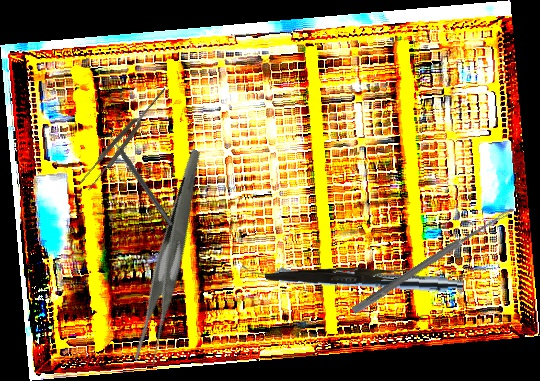Dressing Forceps: (81, 148, 263, 370), (265, 263, 408, 289)
Fixation Ring: (97, 125, 179, 231)
Handpiece: (241, 261, 464, 294)
Surgical Spoon: (351, 207, 511, 316)
Tissue Forceps: (78, 83, 172, 192)
